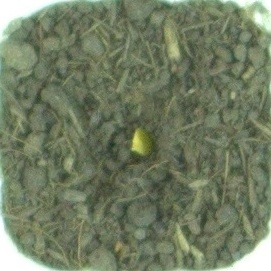pepper seed: (49, 47, 207, 206)
